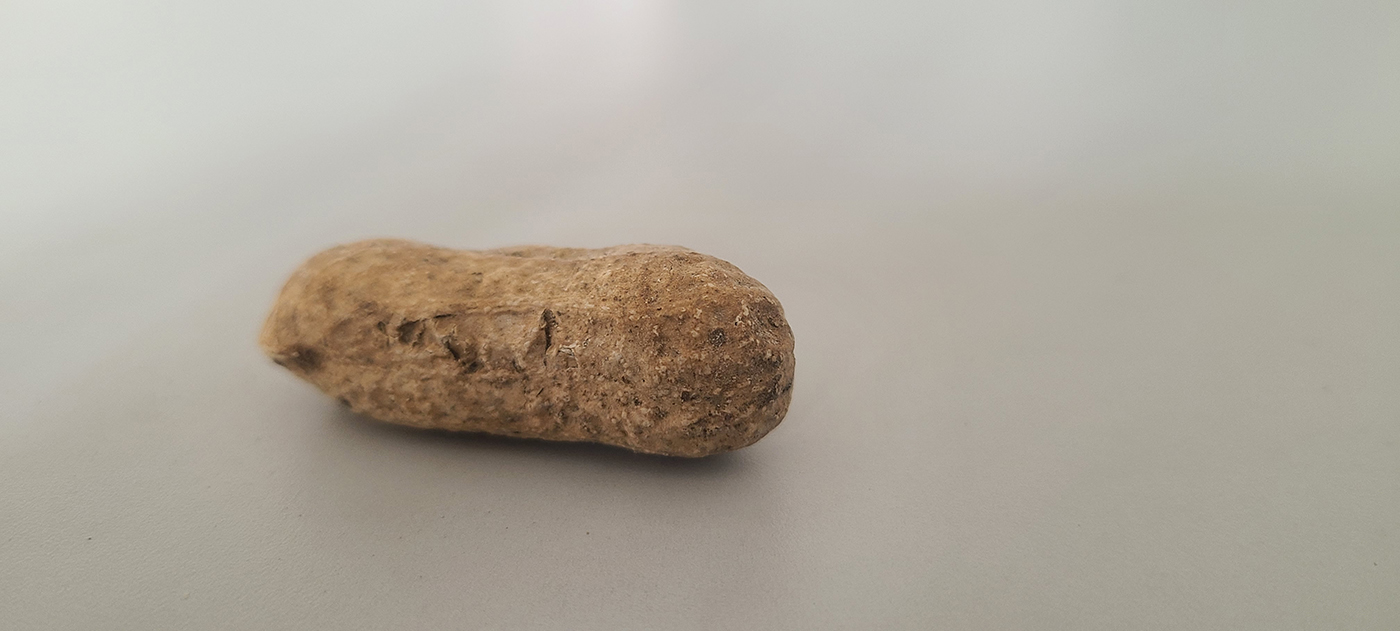h: (256, 237, 800, 462)
